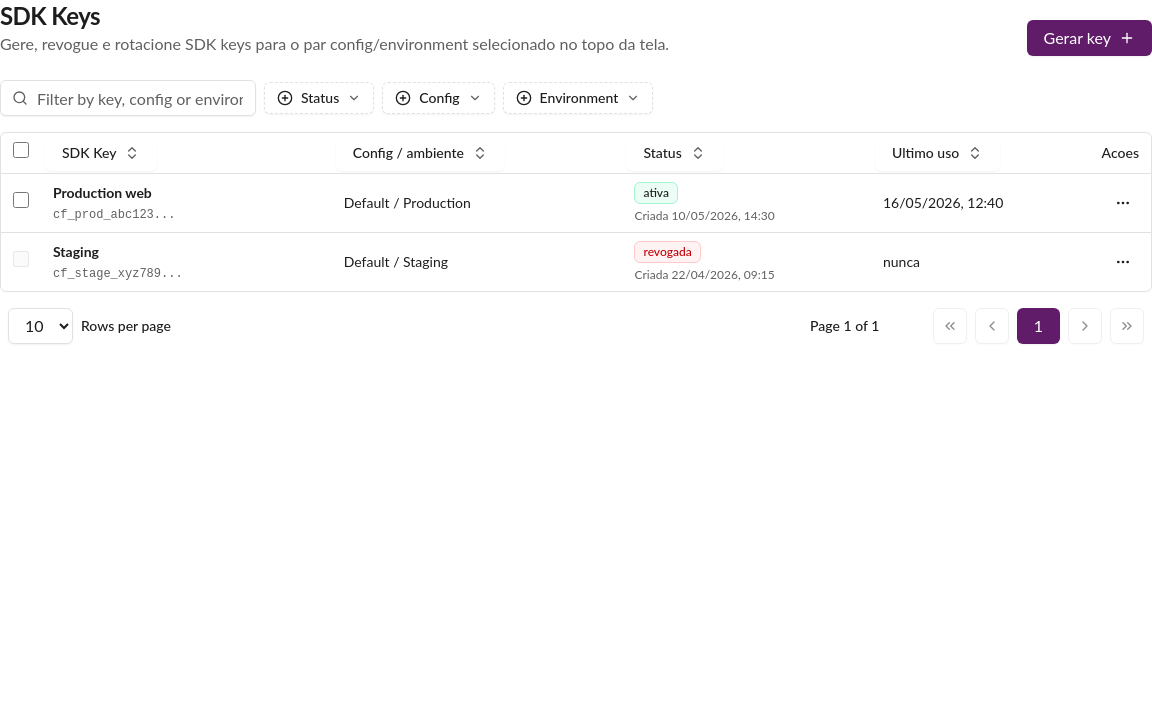
it: SDK key page integration › loads SDK keys and creates a key with a visible one-time secret
Expected: the text "Production web" is shown, [53,184,152,200]
Click the button "Gerar key": (1089, 38) [1027,20,1151,56]
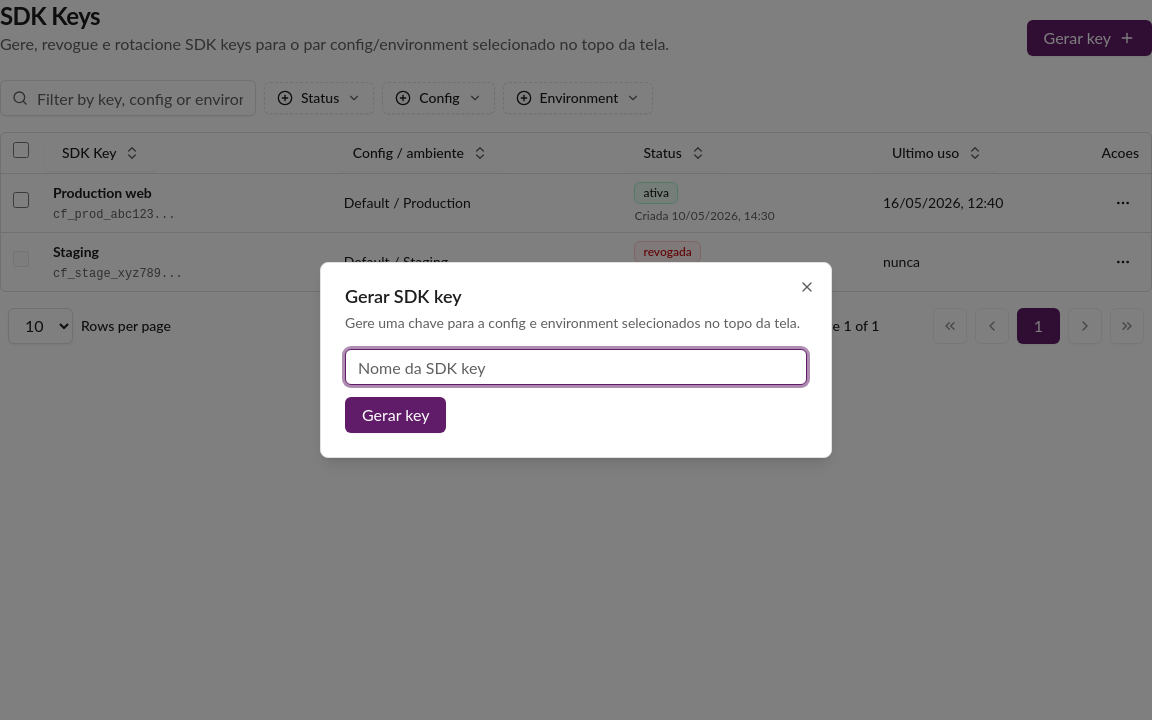
In the field with placeholder "Nome da SDK key": (576, 367) [345,349,807,385], type "Browser SDK"
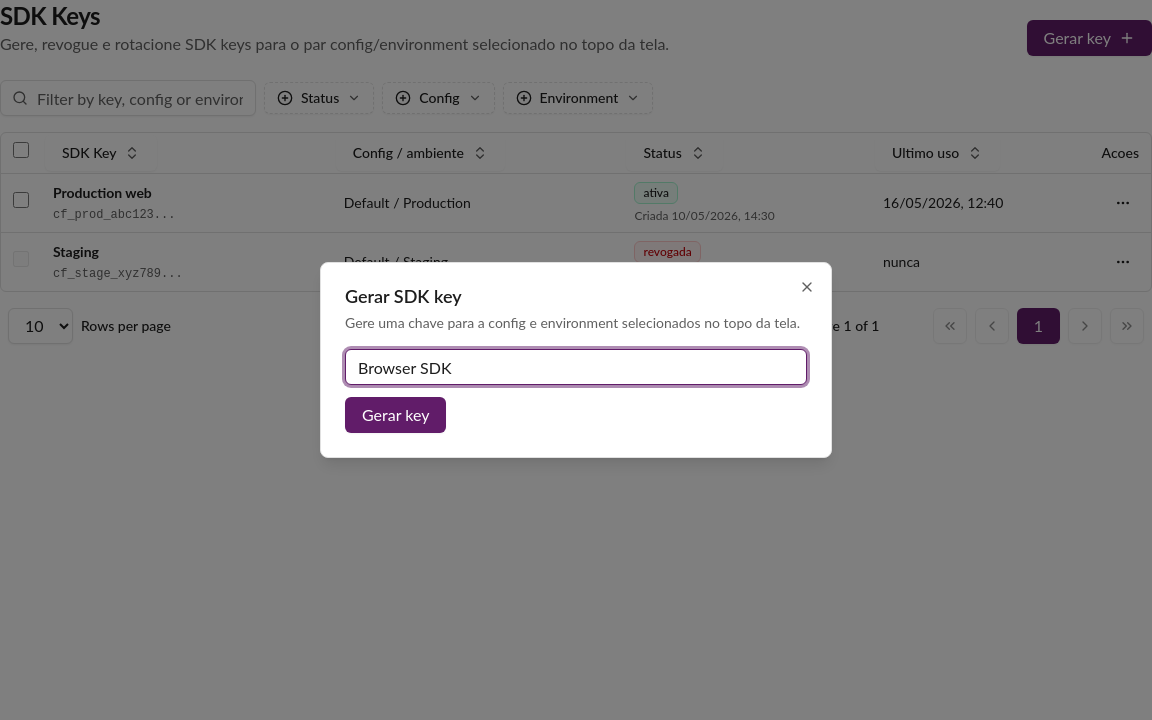
Click the button "Gerar key": (396, 415) [345,397,446,433]
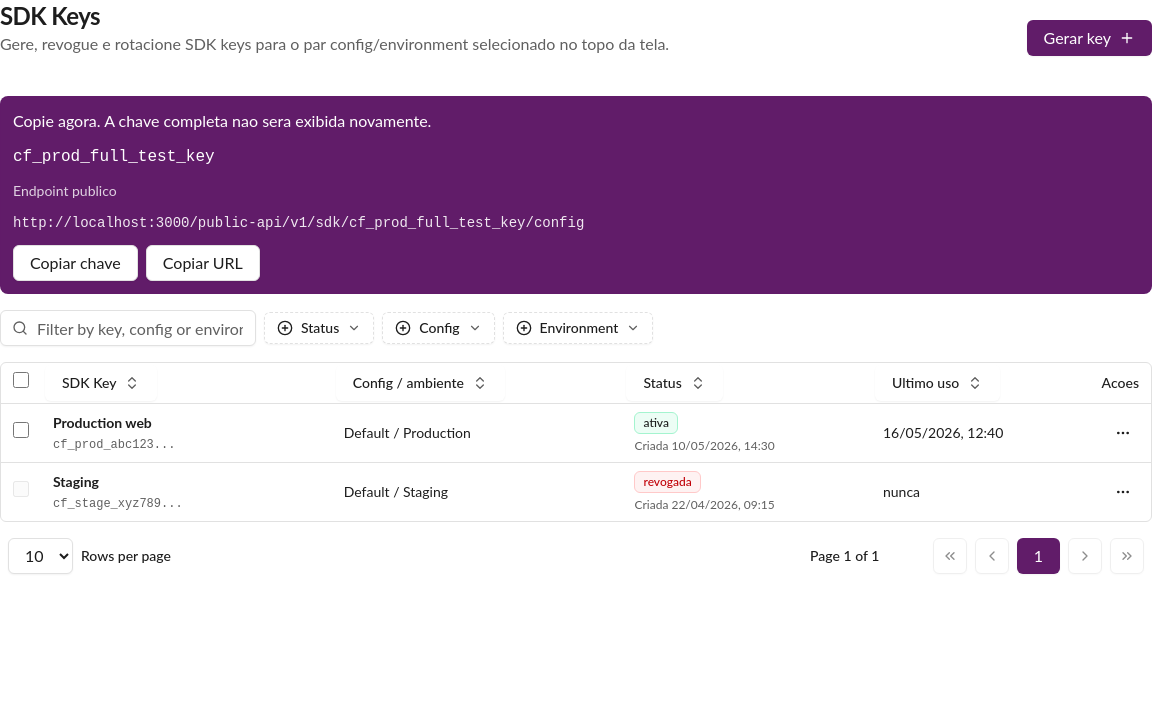
Expected: the text "cf_prod_full_test_key" is shown, [13,148,215,166]
